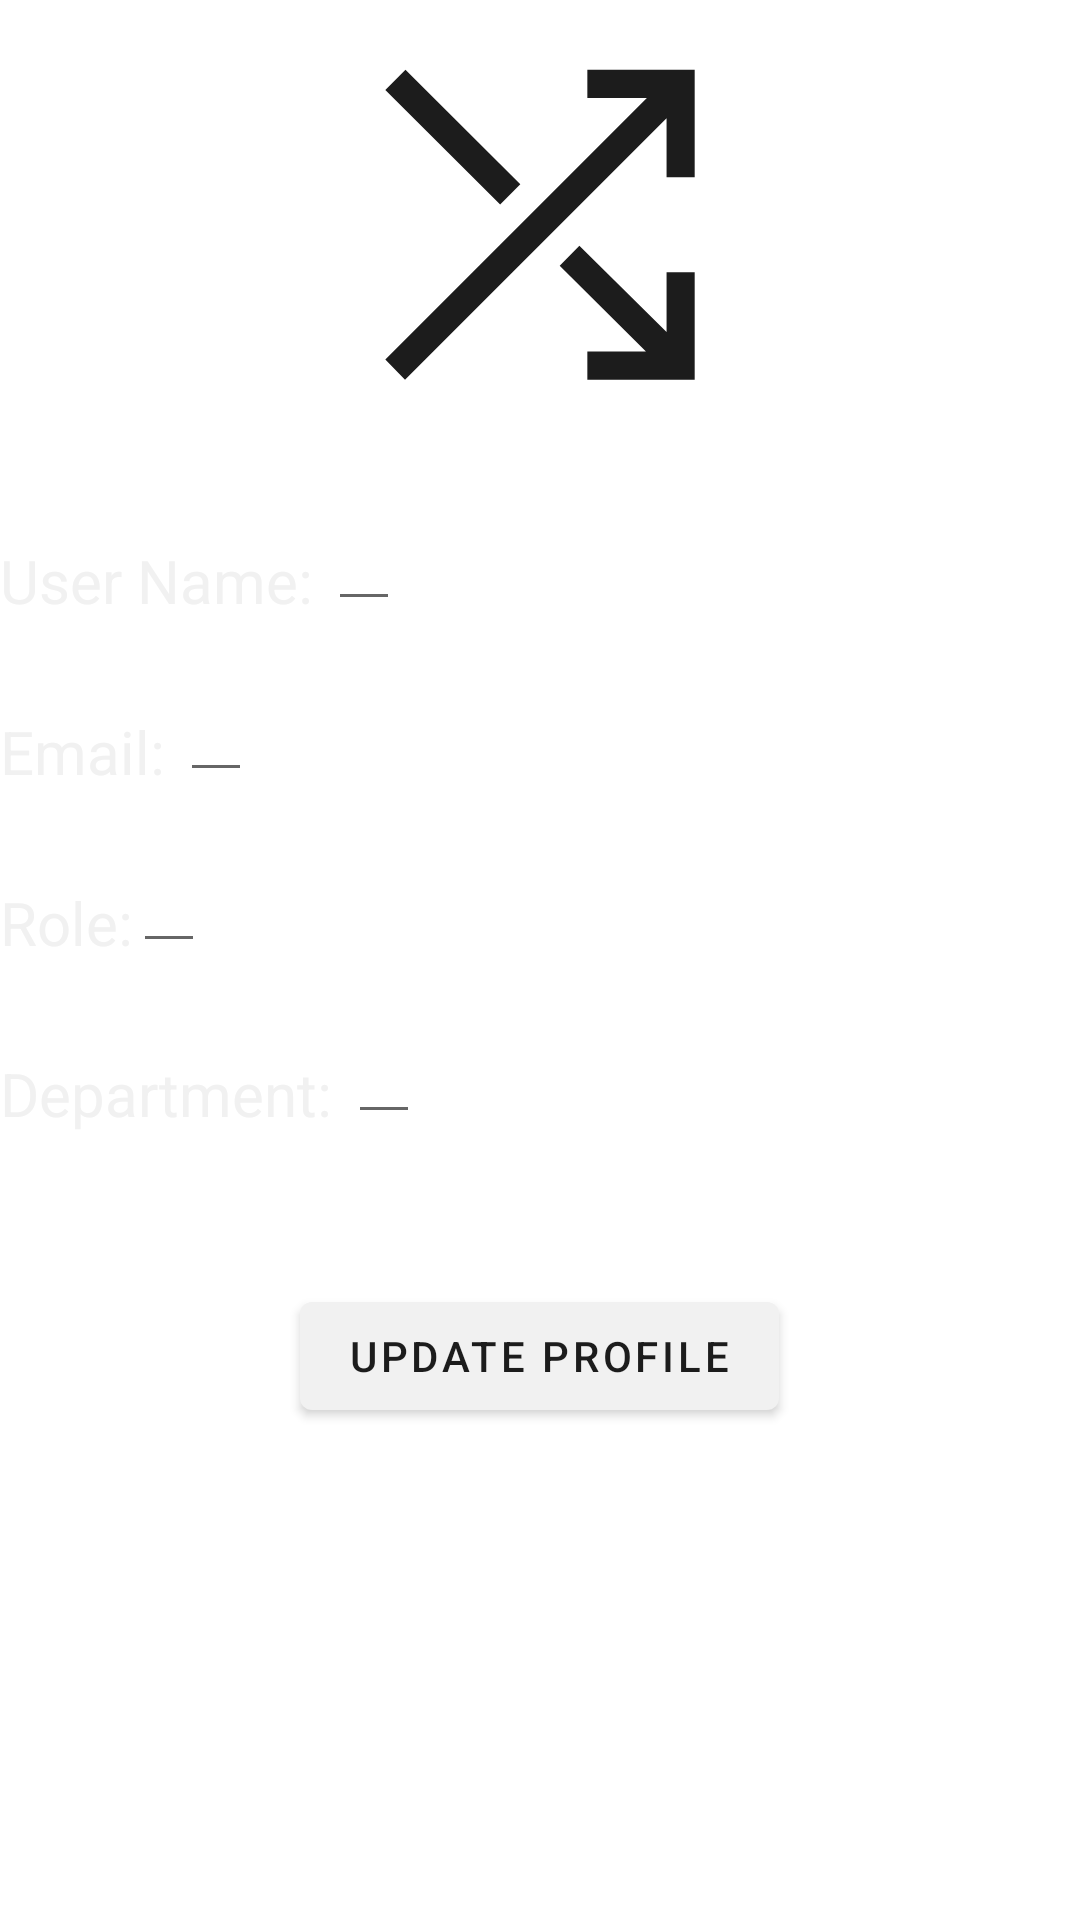

Screen size 1080w x 1920h. Icon name, then its center in pixels as point (x, y):
shuffle: point (540, 224)
